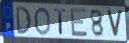8: (89, 9, 105, 38)
D: (15, 6, 33, 35)
E: (69, 7, 89, 38)
O: (34, 6, 52, 37)
T: (53, 8, 68, 36)
V: (105, 9, 124, 39)
